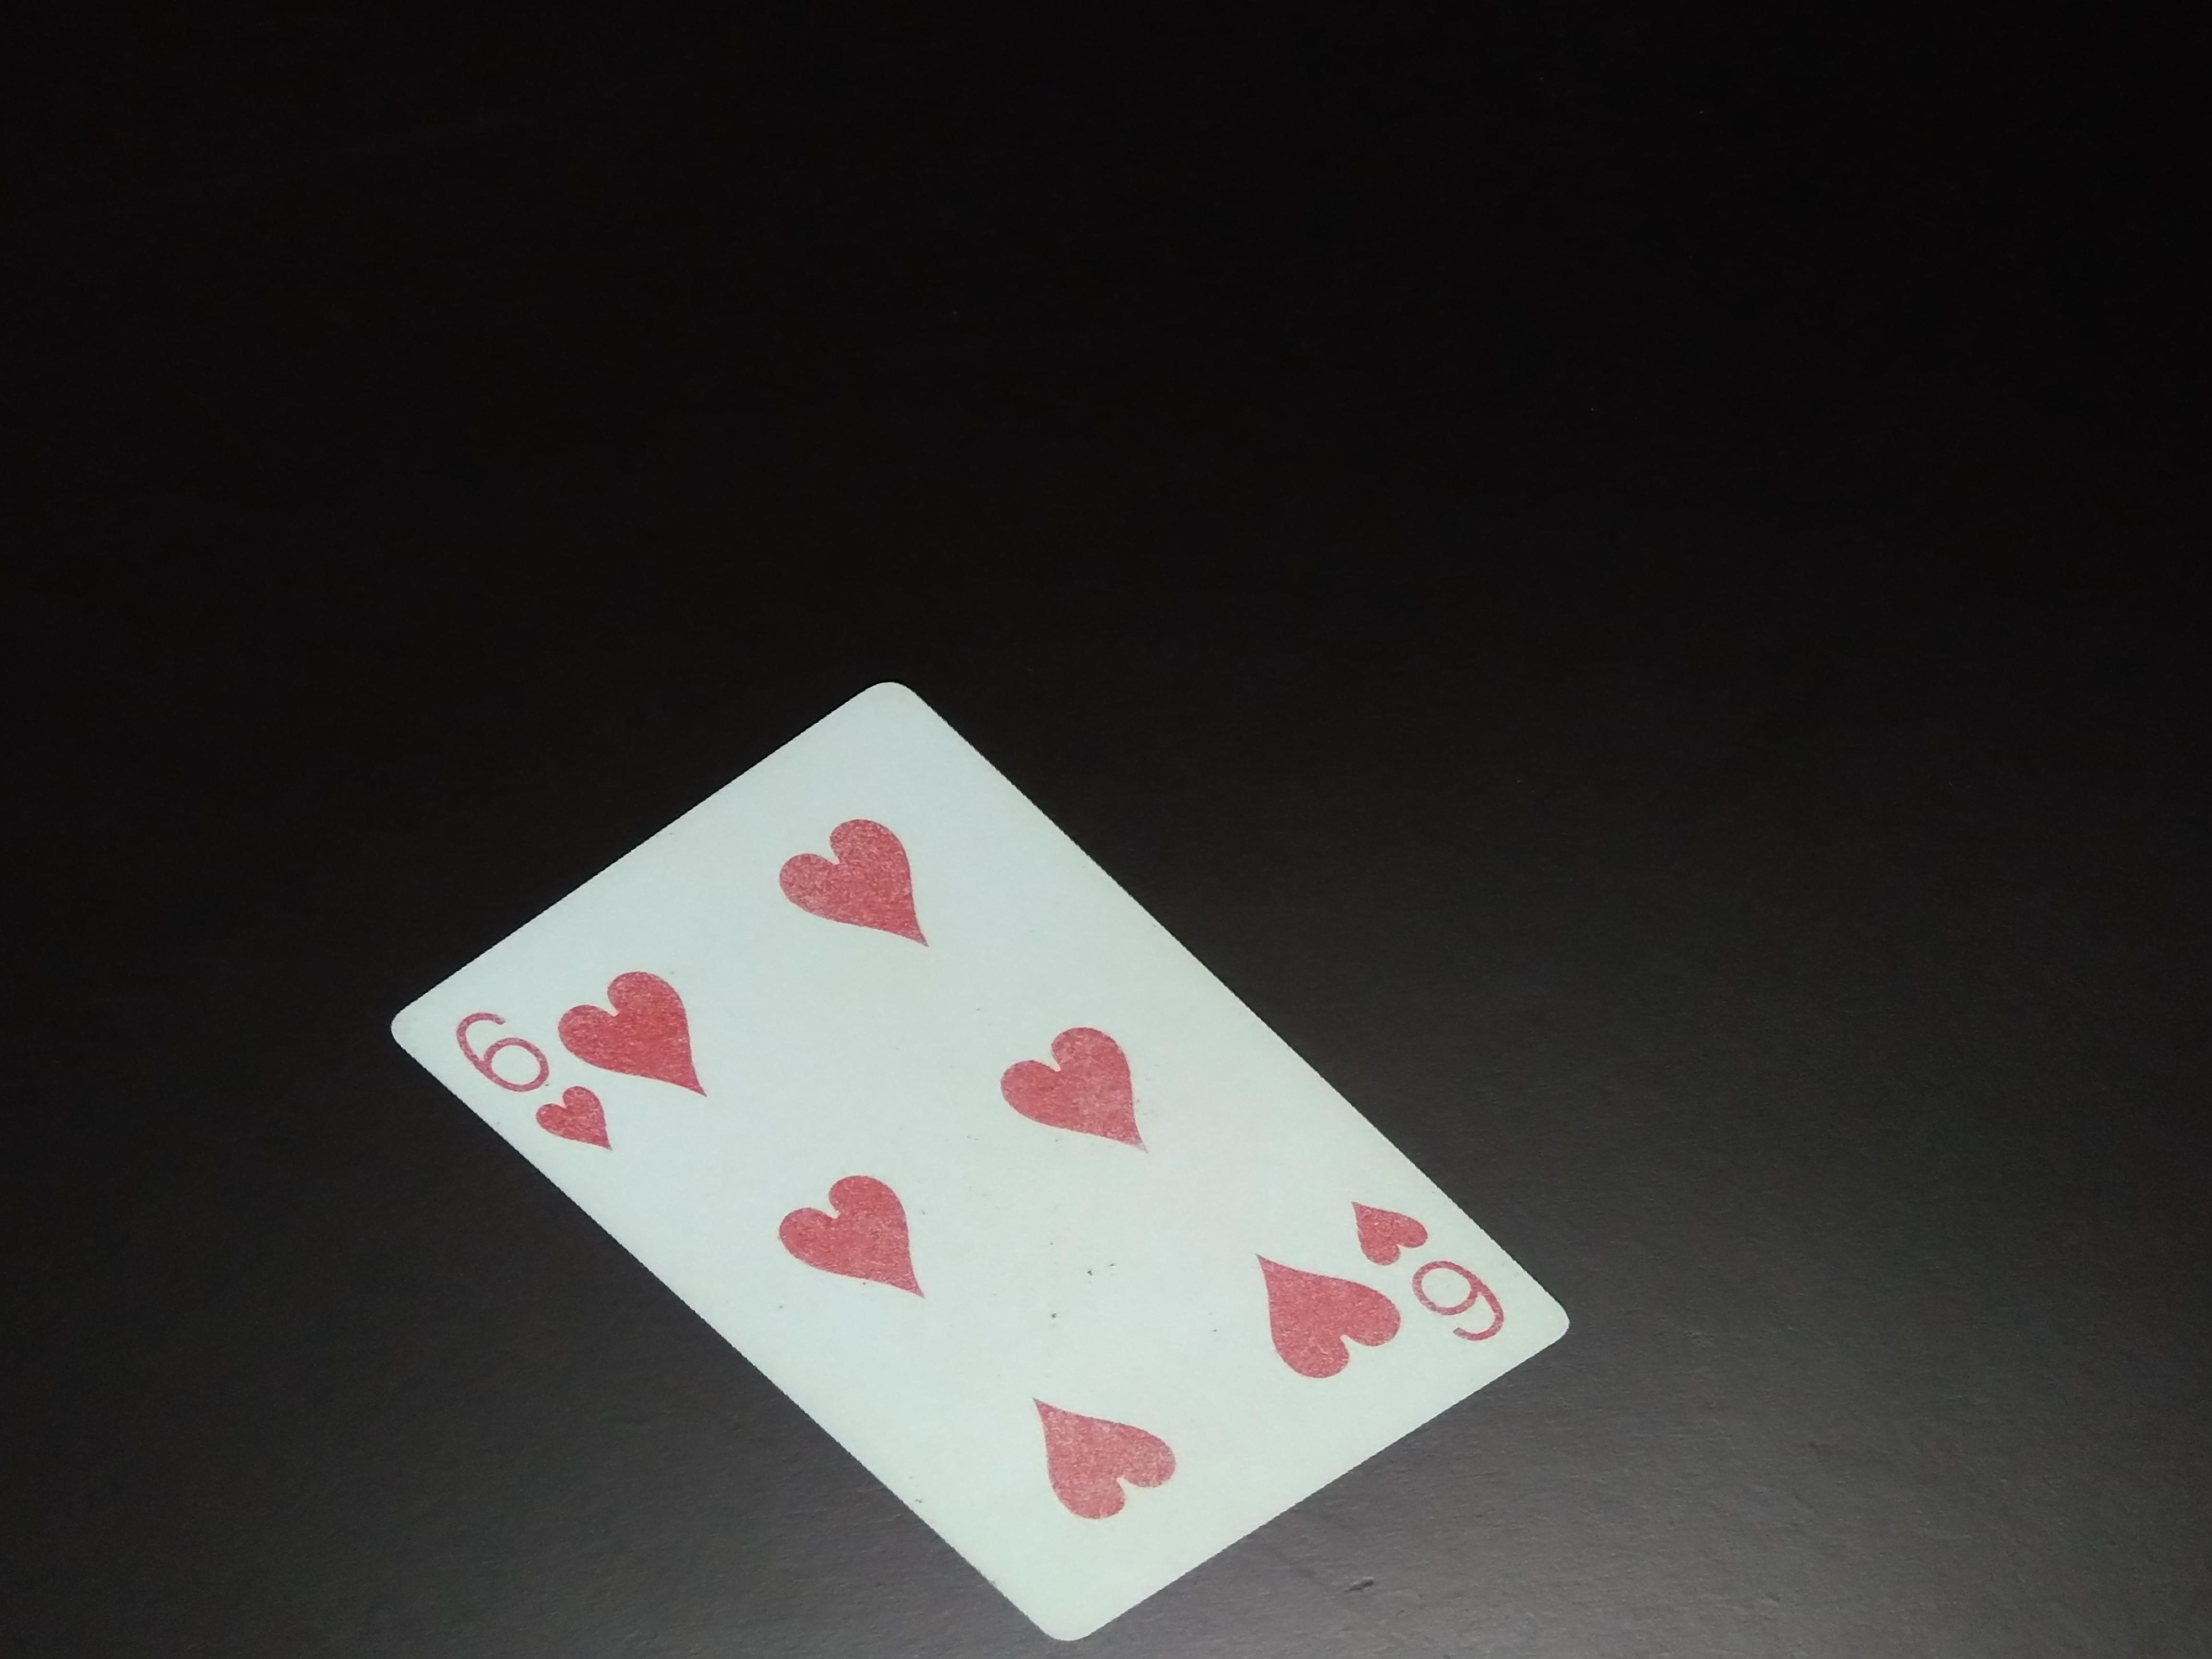6H: (434, 997, 608, 1175)
